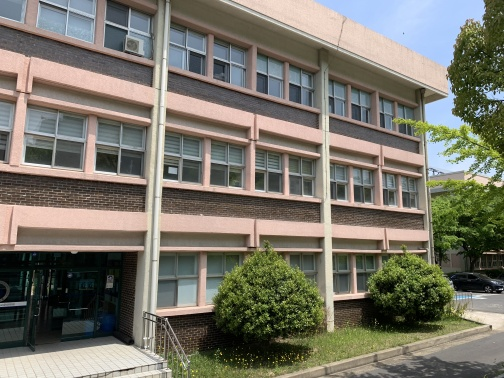College Of Education: (5, 6, 436, 362)
